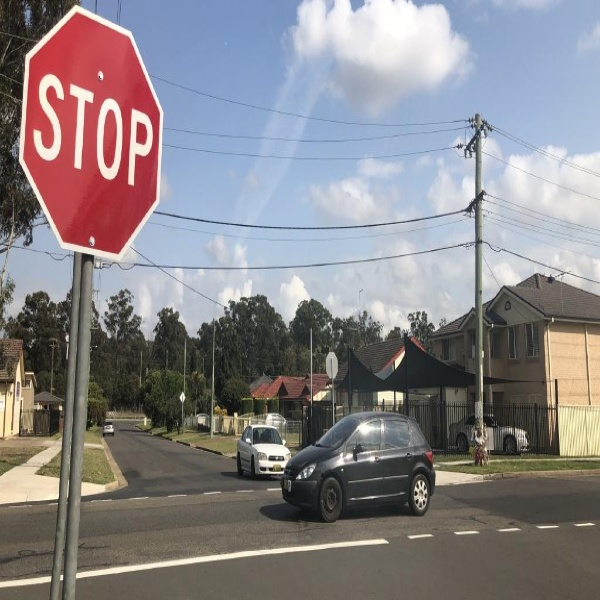stop: (106, 35, 207, 171)
